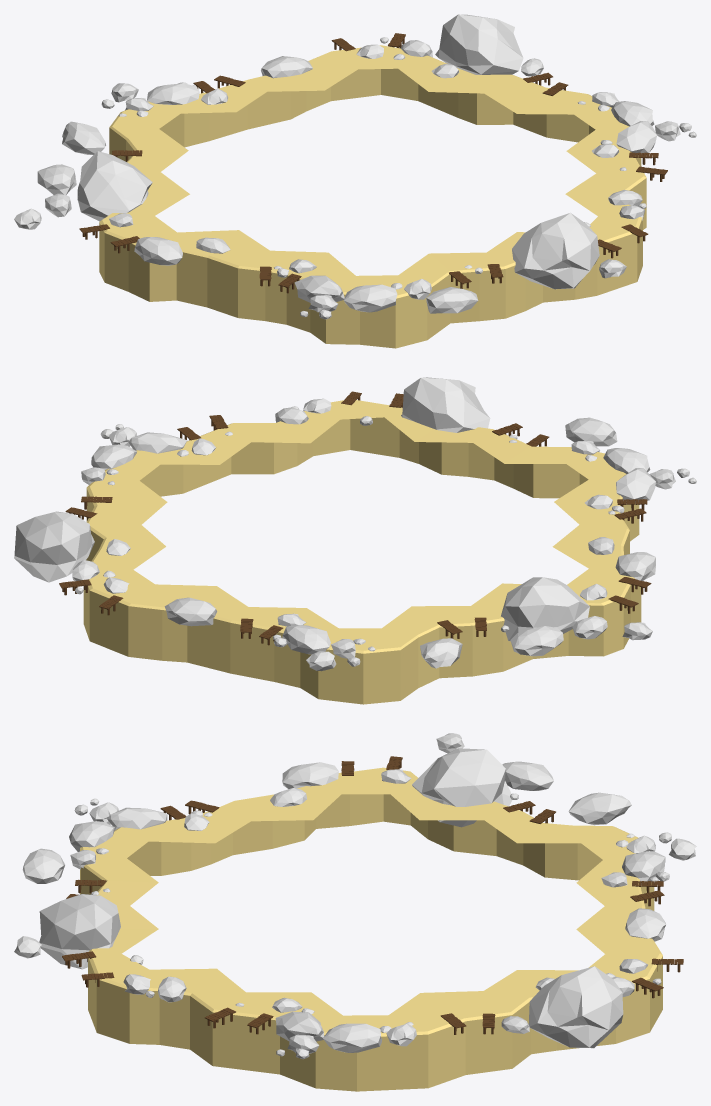
The model's file is beach_and_harbours.fbx.
3 views of the same model, one above another, from view 1: azimuth 30°, elevation 25°; view 2: azimuth 150°, elevation 25°; view 3: azimuth 270°, elevation 25° (orthographic). The views are drawn at different scales.
Visible parts, largest first — view 1: BasePlate.018, Icosphere.024, Icosphere.013, Icosphere.039, Icosphere.037, Icosphere.025, Icosphere.056, Icosphere.050, Icosphere.005, Icosphere.038, Icosphere.054, Icosphere.032 (+2 smaller); view 2: BasePlate.018, Icosphere.013, Icosphere.024, Icosphere.039, Icosphere.038, Icosphere.044, Icosphere.025, Icosphere.054, Icosphere.032, Icosphere.050, Icosphere.056, Icosphere.005 (+3 smaller); view 3: BasePlate.018, Icosphere.013, Icosphere.039, Icosphere.024, Icosphere.050, Icosphere, Icosphere.038, Icosphere.025, Icosphere.056, Icosphere.005, Icosphere.044, Icosphere.032 (+3 smaller).
Part boxes in pixels (x1,y1,x2,y2): BasePlate.018: [99, 45, 646, 348]; Icosphere.024: [512, 212, 599, 289]; Icosphere.013: [435, 14, 523, 74]; Icosphere.039: [77, 151, 152, 221]; Icosphere.037: [343, 284, 397, 312]; Icosphere.025: [426, 287, 478, 313]; Icosphere.056: [134, 237, 182, 265]; Icosphere.050: [62, 121, 105, 154]; Icosphere.005: [616, 121, 656, 153]; Icosphere.038: [37, 164, 76, 195]; Icosphere.054: [147, 83, 199, 104]; Icosphere.032: [294, 275, 344, 302]; BasePlate.018: [83, 400, 641, 704]; Icosphere.013: [14, 511, 94, 582]; Icosphere.024: [401, 377, 490, 432]; Icosphere.039: [501, 577, 589, 641]; Icosphere.038: [510, 626, 563, 656]; Icosphere.044: [164, 597, 217, 626]; Icosphere.025: [565, 417, 617, 446]; Icosphere.054: [282, 625, 330, 654]; Icosphere.032: [616, 468, 655, 503]; Icosphere.050: [420, 638, 462, 668]; Icosphere.056: [615, 552, 655, 580]; Icosphere.005: [128, 432, 187, 453]; BasePlate.018: [80, 767, 662, 1091]; Icosphere.013: [528, 966, 623, 1048]; Icosphere.039: [412, 748, 512, 827]; Icosphere.024: [39, 894, 120, 969]; Icosphere.050: [568, 792, 631, 825]; Icosphere: [323, 1023, 382, 1052]; Icosphere.038: [502, 761, 553, 790]; Icosphere.025: [22, 848, 64, 883]; Icosphere.056: [282, 762, 338, 789]; Icosphere.005: [275, 1011, 324, 1041]; Icosphere.044: [625, 908, 665, 941]; Icosphere.032: [107, 807, 167, 830].
Size of the model in its own units: 1191 by 163 by 1076.
